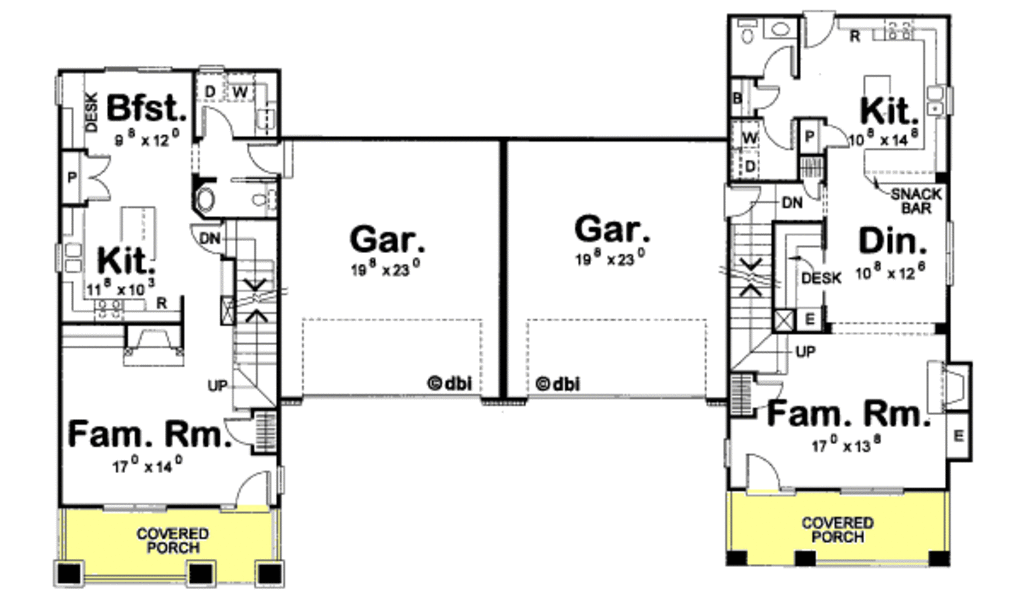door: (230, 467, 286, 520), (742, 442, 792, 501), (241, 141, 304, 181), (80, 146, 117, 208), (197, 104, 239, 148), (801, 8, 836, 54), (723, 183, 763, 219), (757, 114, 792, 152), (226, 414, 259, 454), (745, 377, 787, 407), (759, 46, 794, 80), (796, 175, 826, 207), (750, 82, 783, 111), (825, 123, 853, 150)
large_sink: (245, 188, 283, 214), (738, 18, 761, 48)
small_sink: (192, 184, 216, 219)
stairs: (220, 216, 286, 405), (732, 219, 805, 373)
twin_sink: (59, 242, 86, 278), (920, 81, 945, 118)
window: (939, 216, 960, 287), (104, 500, 172, 514), (49, 74, 73, 110), (835, 487, 907, 495), (130, 67, 179, 73)
